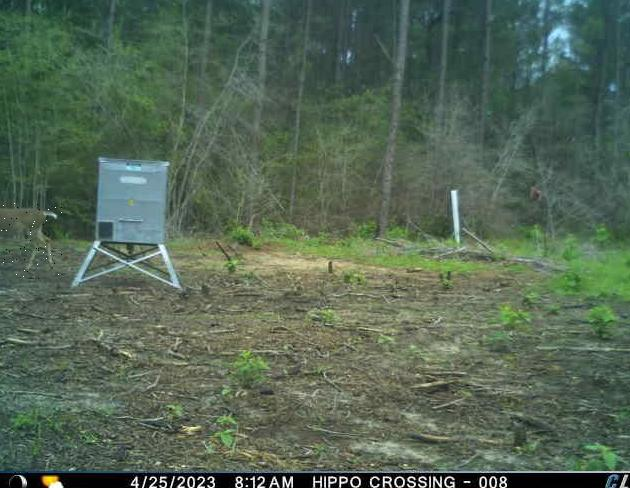Deer: (0, 203, 62, 280)
